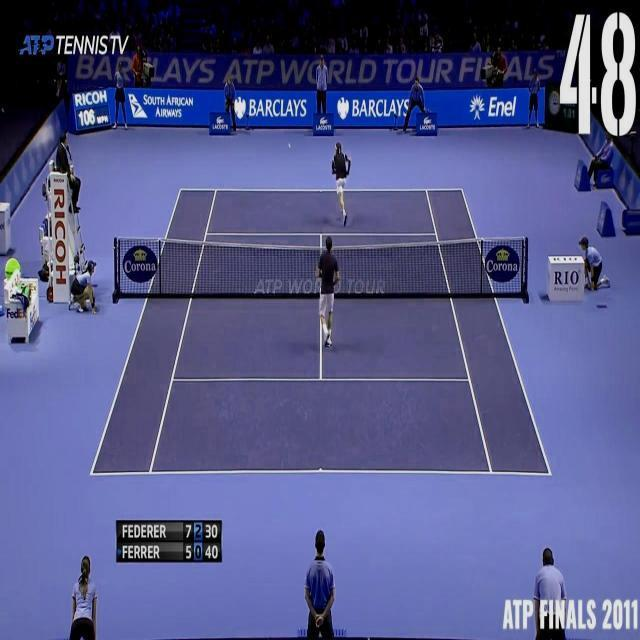left side: (91, 189, 216, 474), (426, 189, 550, 474)
player: (311, 234, 343, 348), (327, 142, 354, 226)
